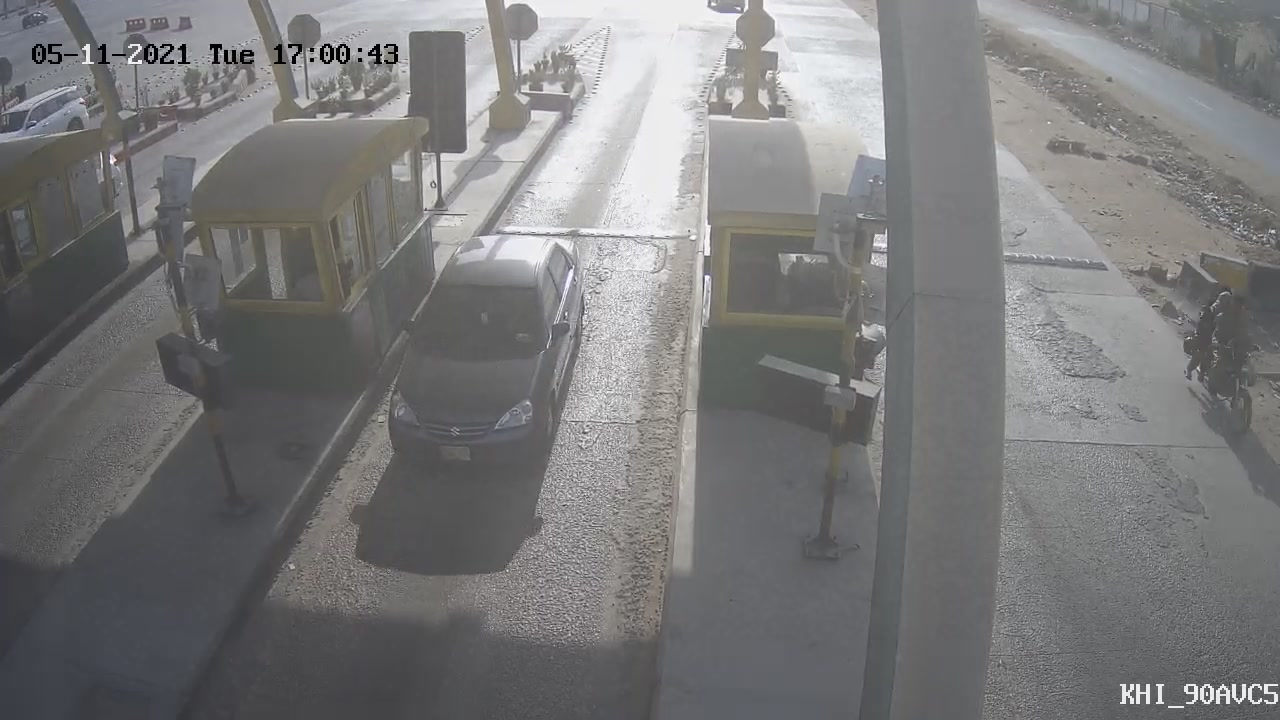F1: (348, 208, 608, 494)
